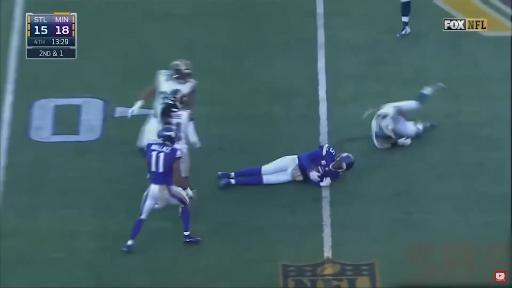Helmet: (170, 60, 192, 81), (330, 153, 354, 171), (157, 125, 176, 145)
Jersey: (154, 71, 196, 122), (298, 145, 340, 185), (146, 143, 181, 185), (374, 105, 397, 138), (171, 110, 190, 149)
Player: (123, 126, 200, 252), (128, 60, 201, 154), (218, 145, 354, 187), (364, 83, 445, 148), (162, 90, 191, 185), (398, 0, 411, 37)
